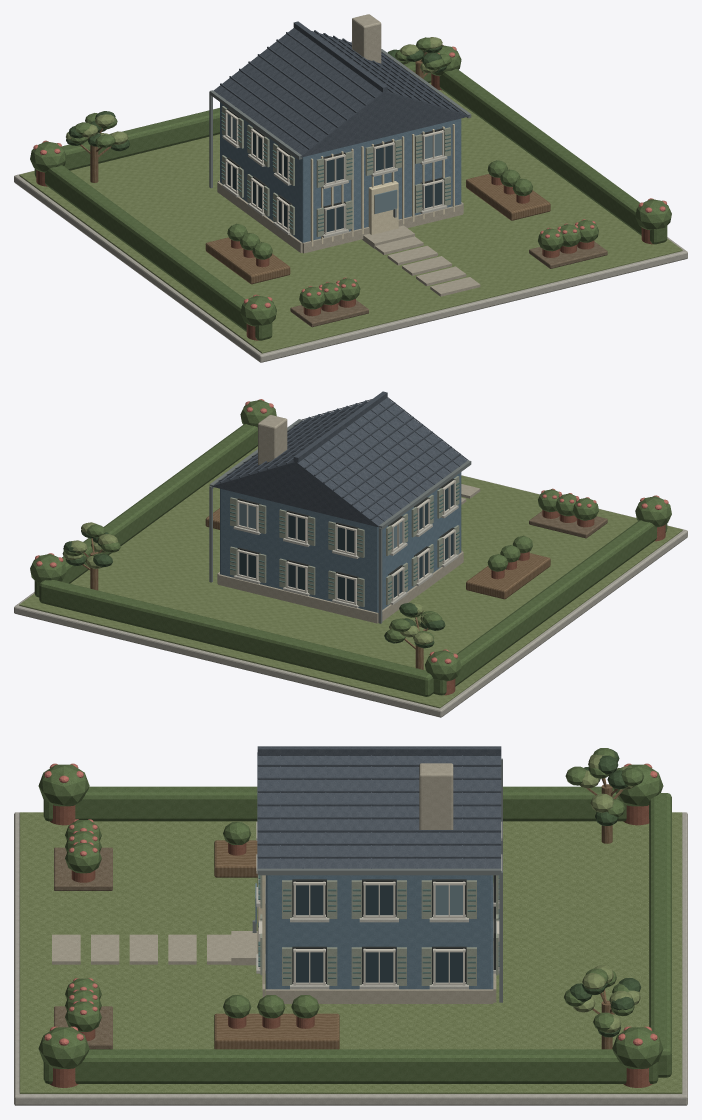
The model's file is EXP_HOUSE_NORDIC.glb.
3 renders of one model, top to bottom at view 1: azimuth 30°, elevation 25°; view 2: azimuth 150°, elevation 25°; view 3: azimuth 270°, elevation 25°, orthographic. The views are drawn at different scales.
Parts seen in each view (by area): view 1: EXP_HOUSE_NORDIC_Visual; view 2: EXP_HOUSE_NORDIC_Visual; view 3: EXP_HOUSE_NORDIC_Visual.
Part boxes in pixels (x1,y1,x2,y2): EXP_HOUSE_NORDIC_Visual: [14, 14, 687, 362]; EXP_HOUSE_NORDIC_Visual: [14, 391, 687, 717]; EXP_HOUSE_NORDIC_Visual: [14, 746, 687, 1105].
Size of what is drawn, in the model's own units: 5.92 by 2.2 by 5.92.
22 materials, 17 textured.
